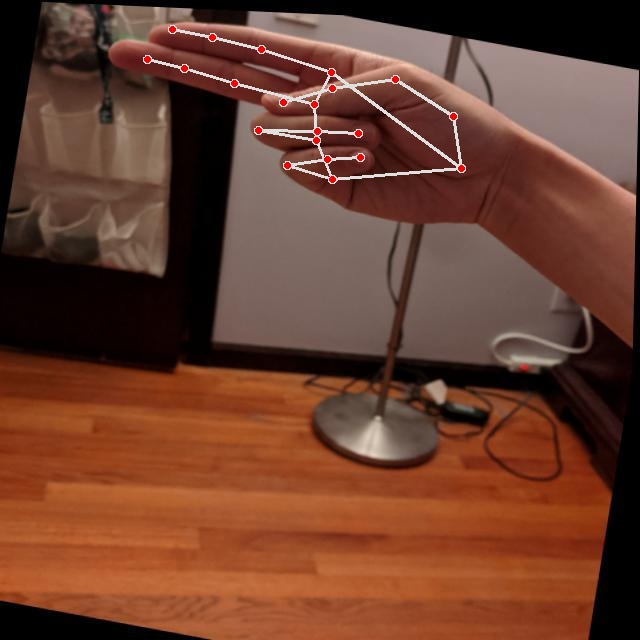H: (79, 3, 541, 253)
